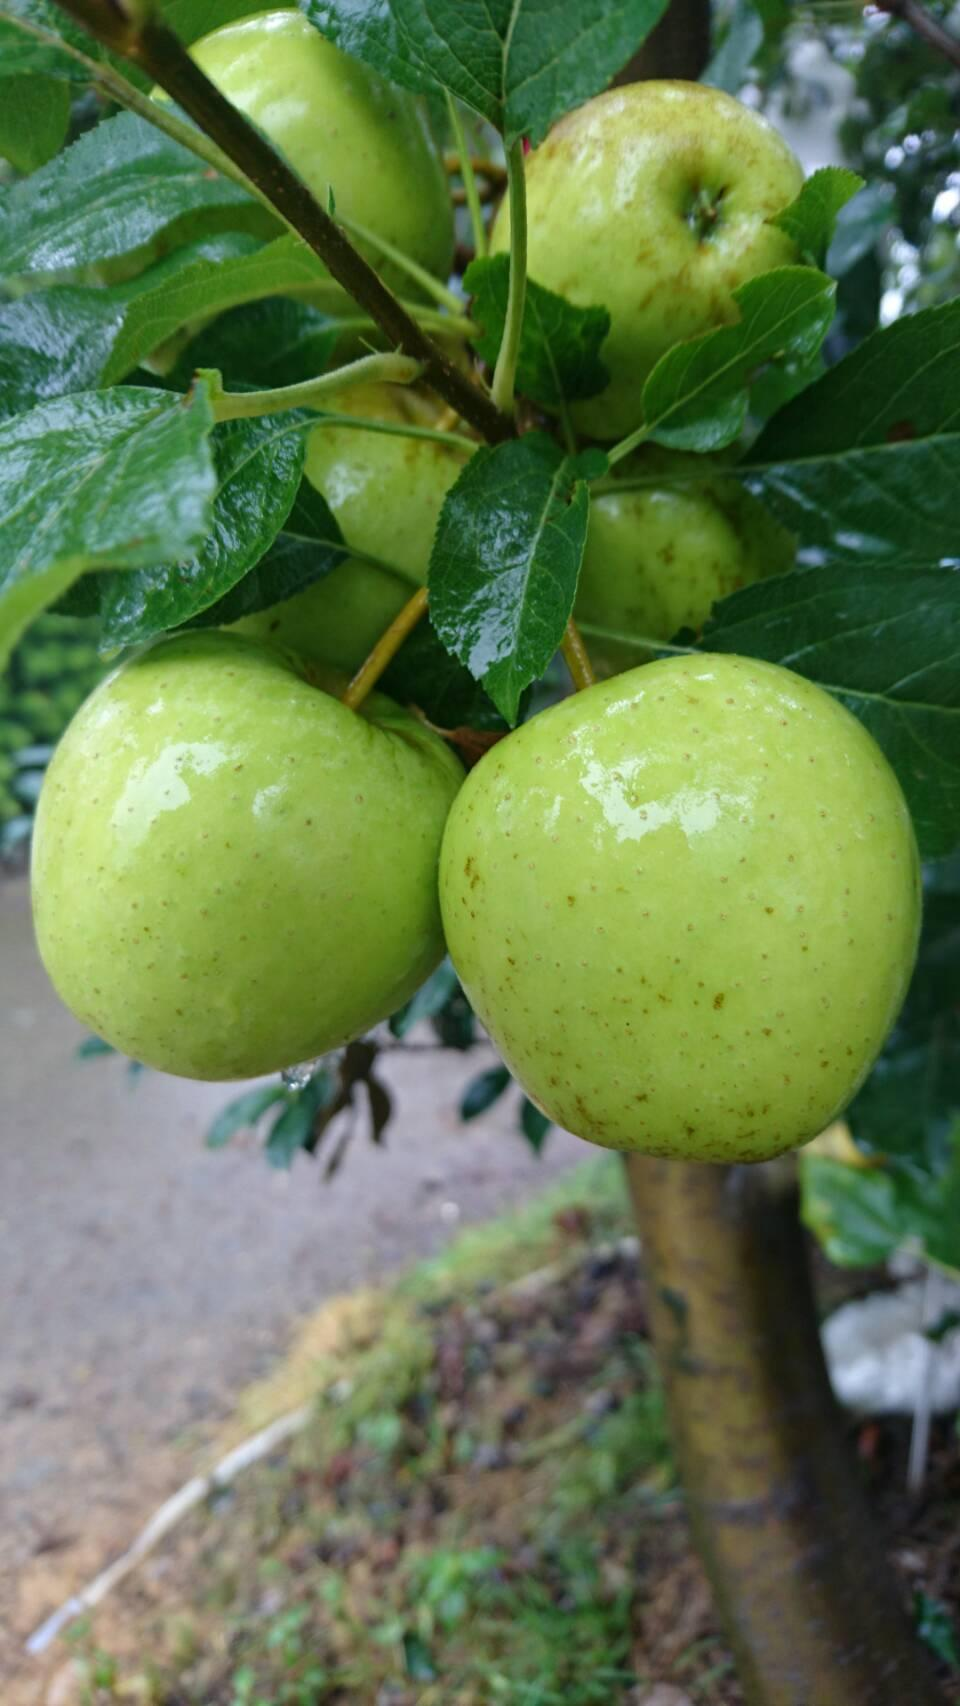apple: (434, 617, 915, 1140), (38, 603, 464, 1055), (515, 79, 806, 429)
